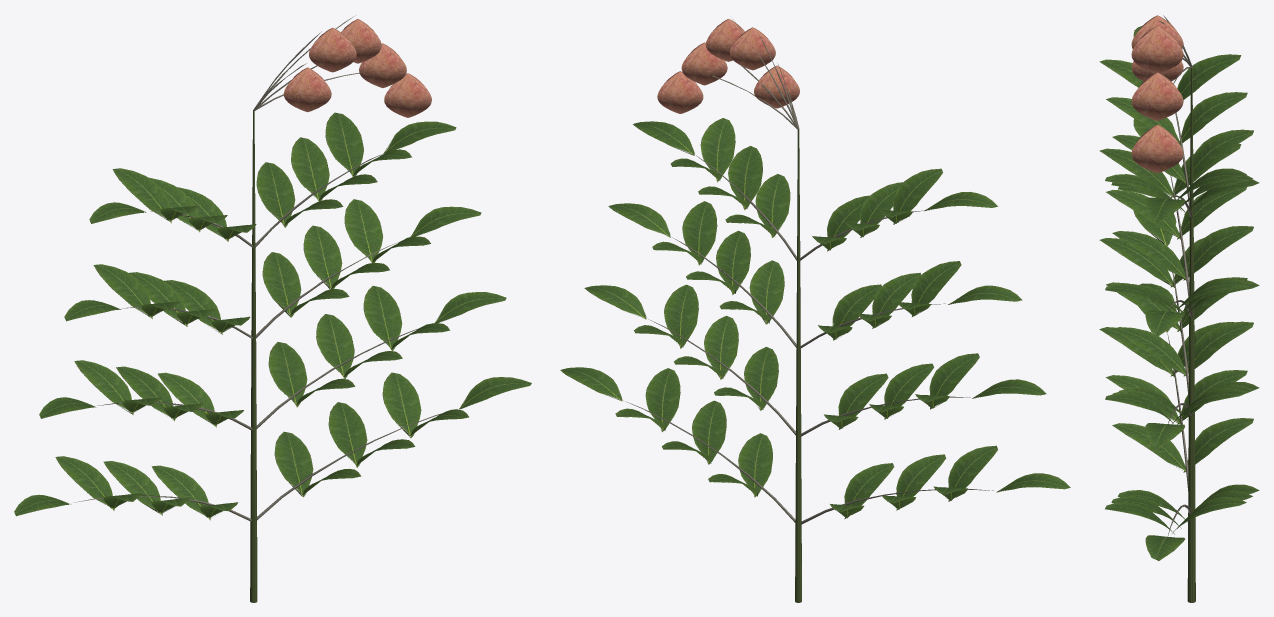
File: koelreuteria-macro.glb
3 views of the same model, side by side, from view 1: azimuth 30°, elevation 25°; view 2: azimuth 150°, elevation 25°; view 3: azimuth 270°, elevation 25° (orthographic). The views are drawn at different scales.
Parts seen in each view (by area): view 1: leaf, capsules, rachis, leaf-back, stem, leaf-edge; view 2: leaf, capsules, rachis, leaf-back, stem, leaf-edge; view 3: leaf, capsules, stem, rachis, leaf-edge.
Boxes of the visible parts, x1,y1,x2,y2 form: leaf: (14, 112, 531, 520); capsules: (283, 19, 431, 117); rachis: (73, 15, 441, 521); leaf-back: (103, 161, 429, 517); stem: (250, 110, 257, 602); leaf-edge: (38, 139, 531, 515); leaf: (560, 118, 1070, 519); capsules: (657, 19, 799, 113); rachis: (623, 19, 993, 524); leaf-back: (650, 168, 967, 517); stem: (795, 129, 801, 602); leaf-edge: (568, 125, 1070, 516); leaf: (1099, 25, 1259, 560); capsules: (1131, 15, 1183, 173); stem: (1187, 68, 1195, 602); rachis: (1158, 15, 1192, 535); leaf-edge: (1103, 59, 1257, 558).
Size of the model in its own units: 0.4799 by 0.5059 by 0.1173.
5 materials, 4 textured.
